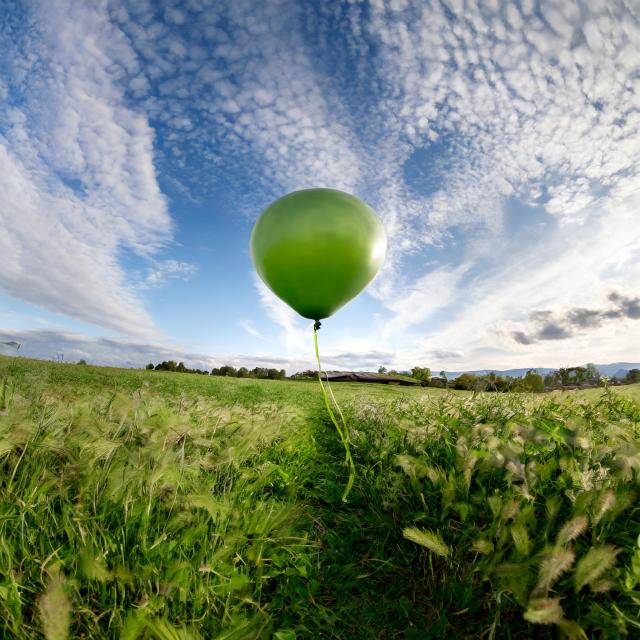green: (254, 189, 388, 324)
